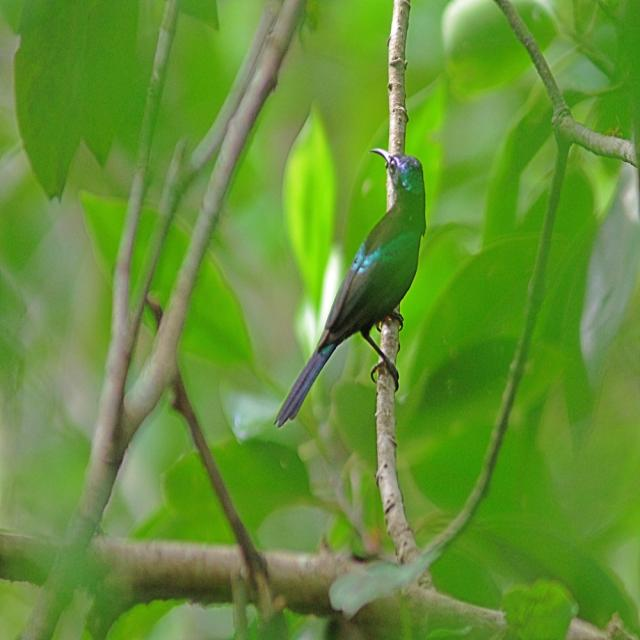bird: (275, 134, 438, 422)
